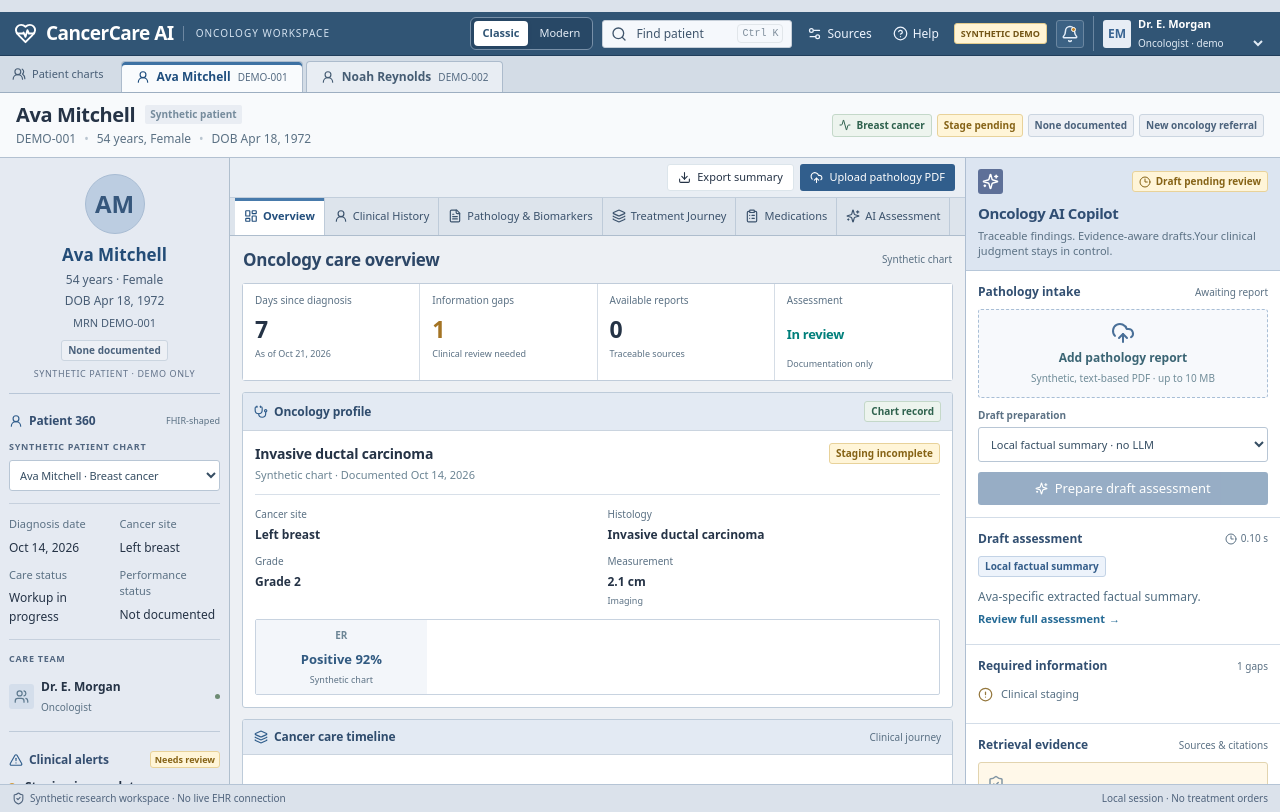
Test: patient workspace isolation and review access › prevents the navigator session from approving, editing, or rejecting
Check: the heading "Ava Mitchell" is shown, box [16,102,135,126]
Select "Nurse navigator · demo" in the dropdown named "Demo role" at (1200, 43), box [1134,35,1266,51]
(page scrolled)
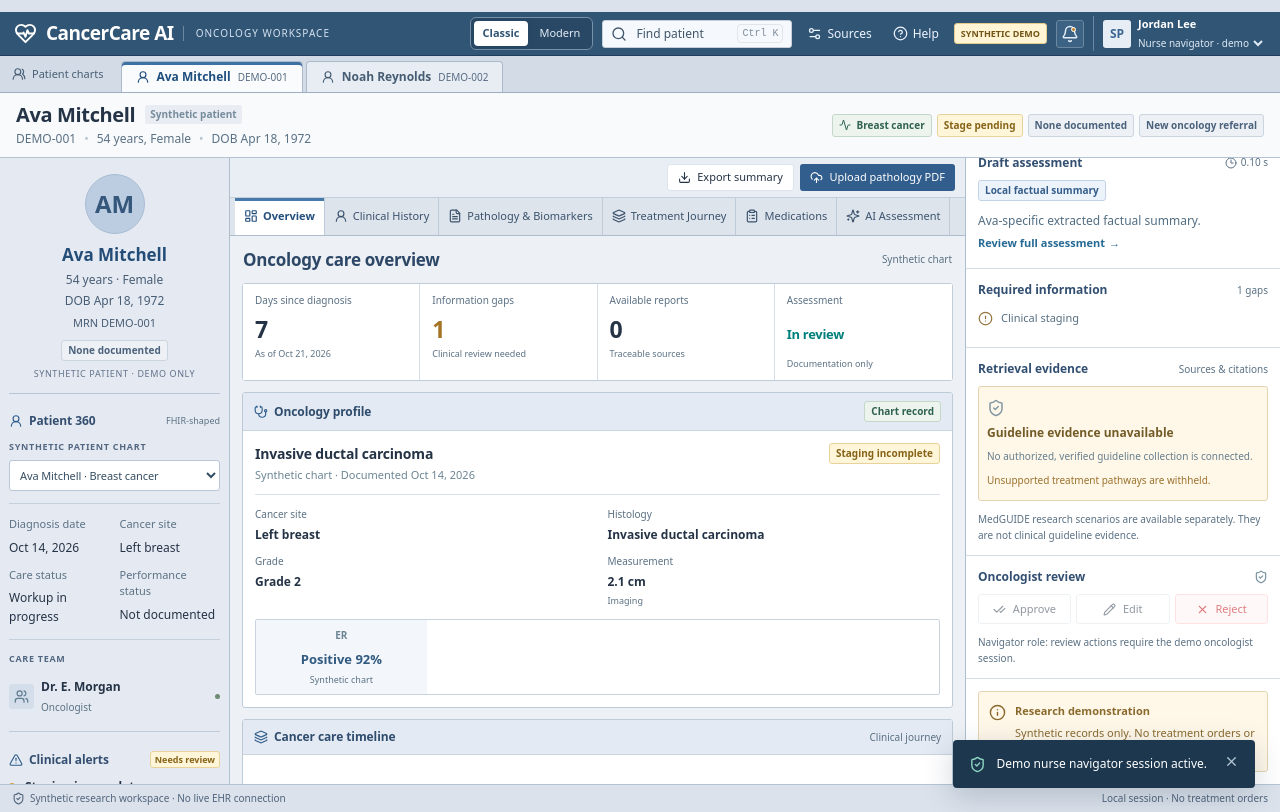
Check: the button "Approve" is disabled, box [978,594,1071,624]
Check: the button "Edit" is disabled, box [1076,594,1170,624]
Check: the button "Reject" is disabled, box [1175,594,1268,624]
